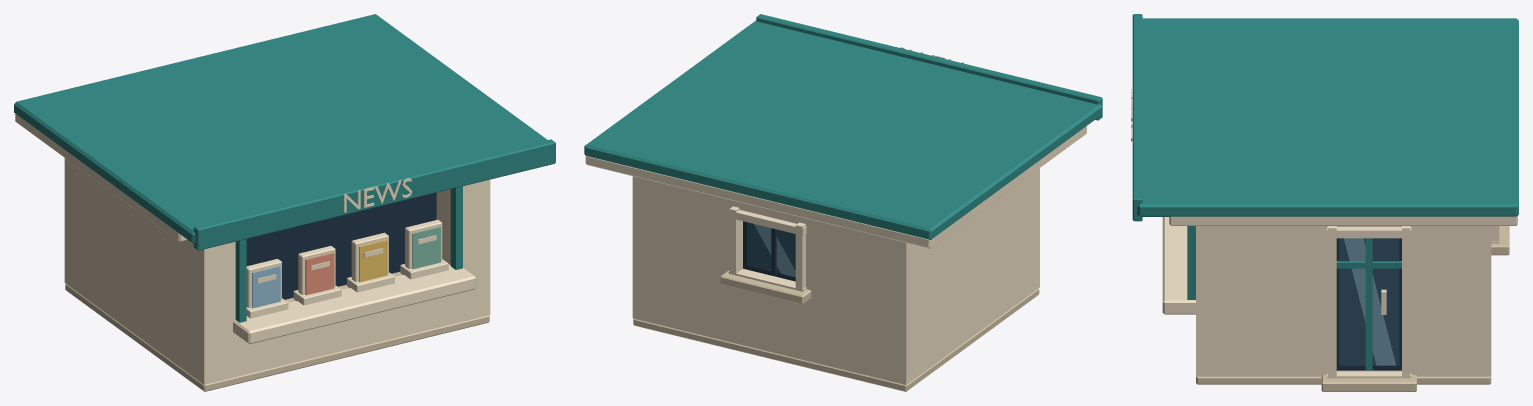
Rendered from newsstand.glb.
3 views of the same model, side by side, from view 1: azimuth 30°, elevation 25°; view 2: azimuth 150°, elevation 25°; view 3: azimuth 270°, elevation 25° (orthographic). The views are drawn at different scales.
Visible parts, largest first — view 1: Newsstand_StaticMesh; view 2: Newsstand_StaticMesh; view 3: Newsstand_StaticMesh.
Boxes of the visible parts, x1=… form: Newsstand_StaticMesh: x1=14, y1=14, x2=555, y2=391; Newsstand_StaticMesh: x1=584, y1=14, x2=1102, y2=391; Newsstand_StaticMesh: x1=1131, y1=14, x2=1518, y2=391.
Bounding box in the file's own units: 5.72 × 2.92 × 4.99.
